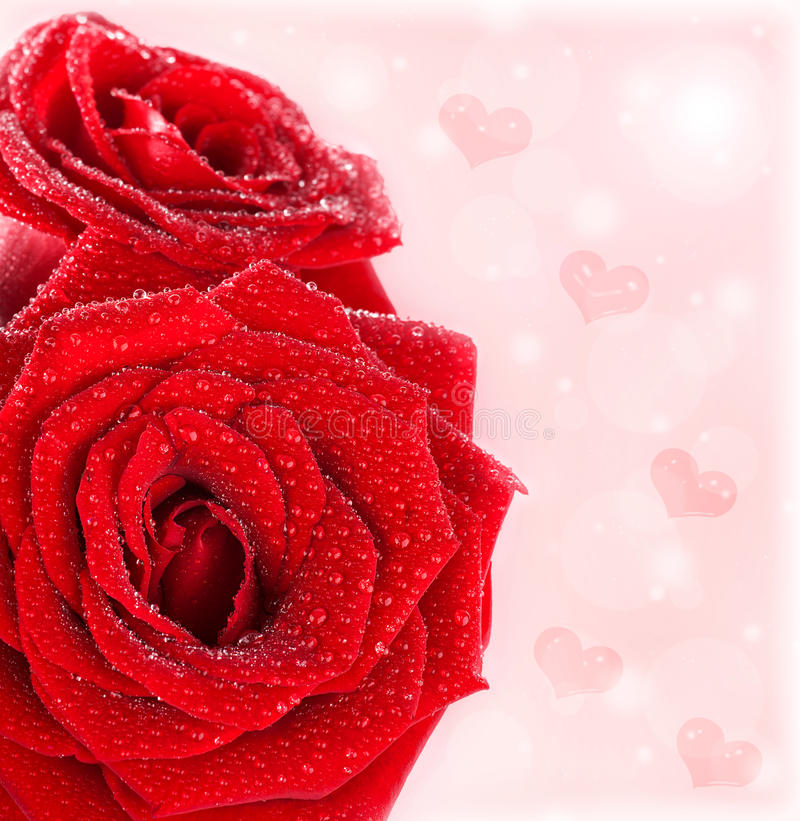RedRose: (0, 266, 499, 821), (0, 0, 441, 292)
